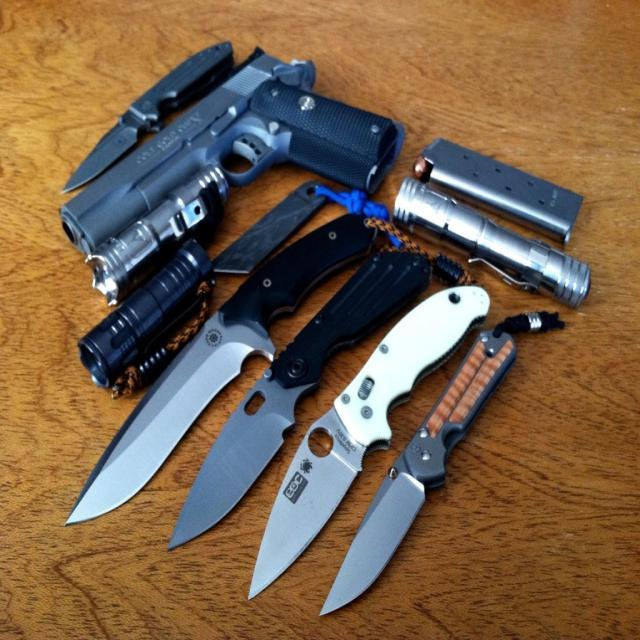Gun: (61, 42, 402, 302)
Knife: (68, 216, 374, 522), (170, 252, 430, 547), (251, 288, 490, 598), (321, 312, 560, 613), (64, 41, 234, 192)
